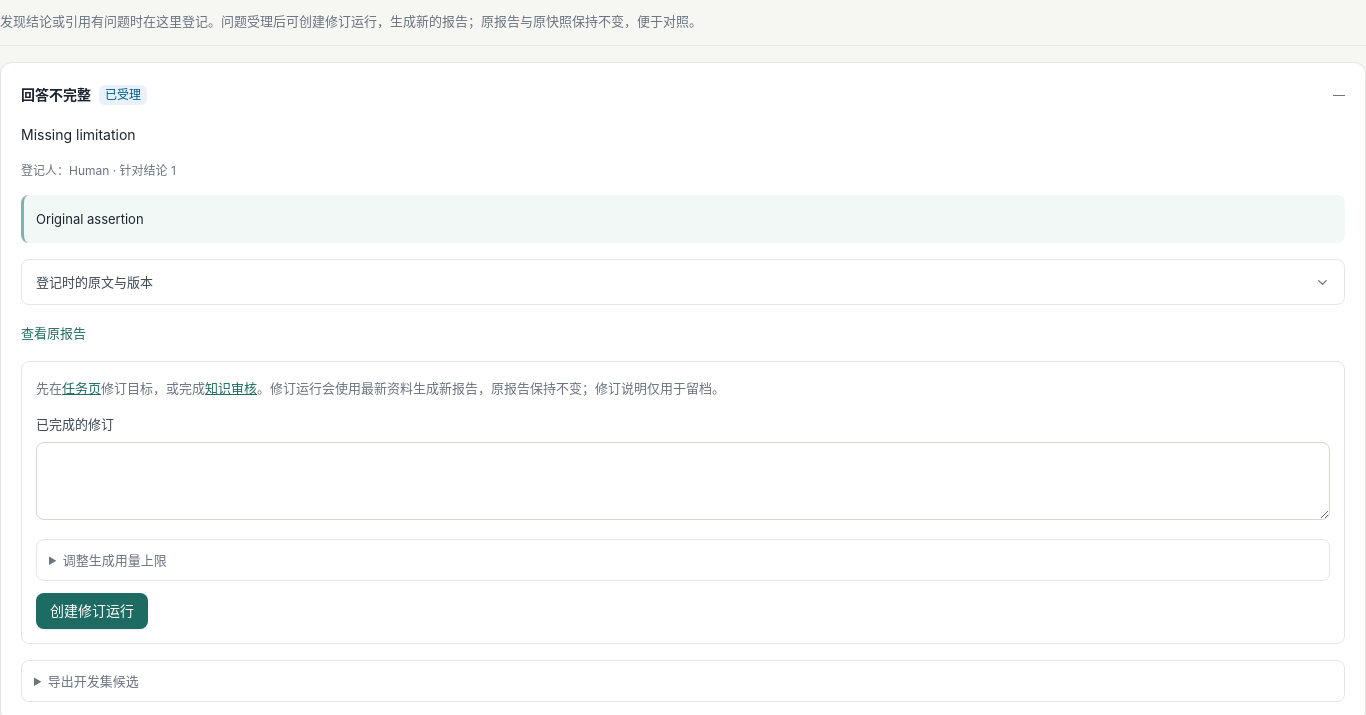
it: starts a single linked rerun and exports only an explicit candidate
The image size is (1366, 715).
Expected: the text "已受理" is shown, [99,85,147,105]
Type "Updated task" into the text box labelled "已完成的修订" at (683, 481), box [36,442,1330,520]
Click the heading "调整生成用量上限" at (115, 560), box [63,552,167,568]
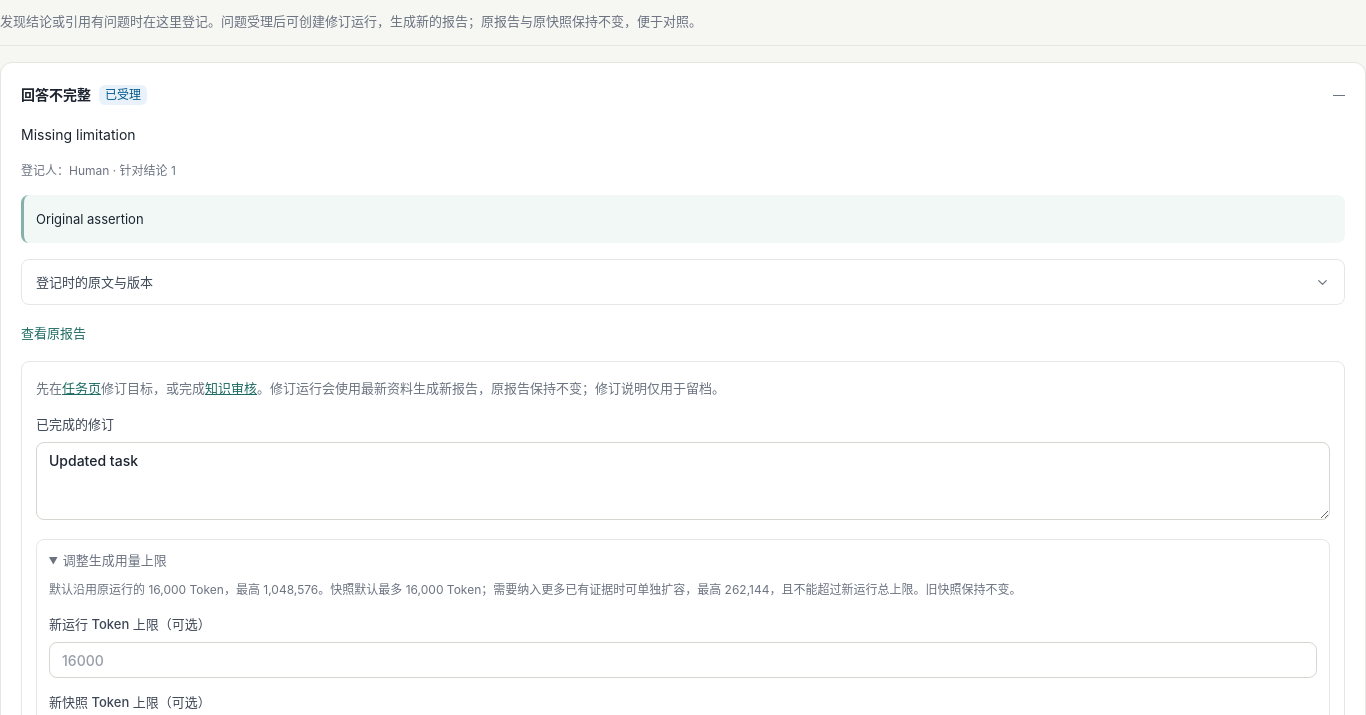
Type "1048576" into the number field labelled "新运行 Token 上限（可选）" at (683, 660), box [49,642,1317,678]
(page scrolled)
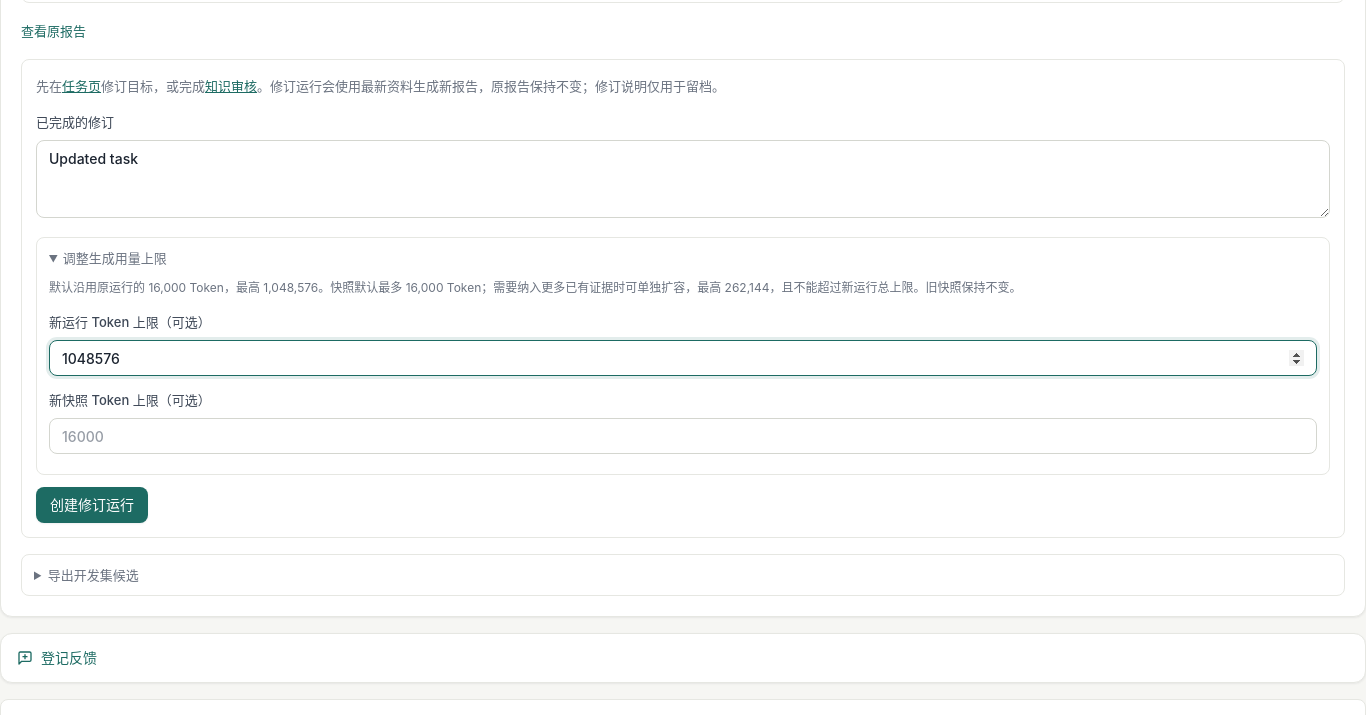
Type "262144" into the number field labelled "新快照 Token 上限（可选）" at (683, 436), box [49,418,1317,454]
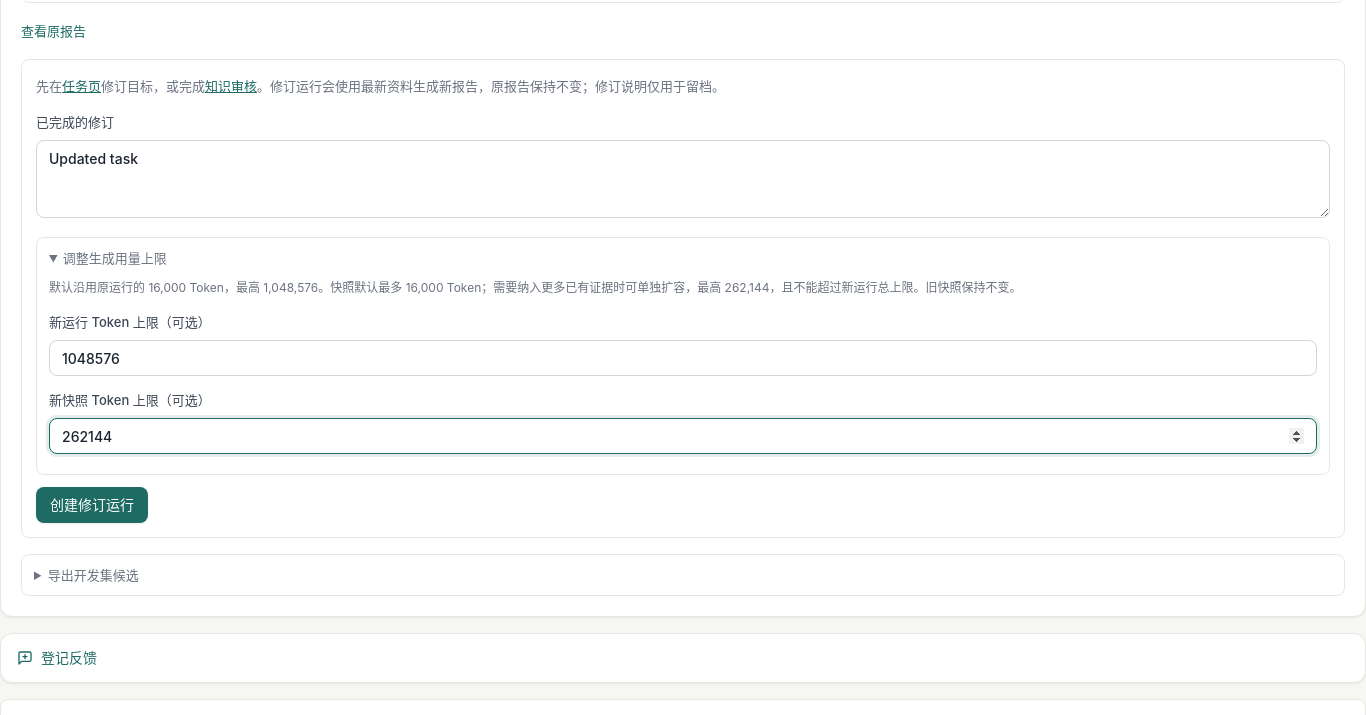
Click the button "创建修订运行" at (92, 505), box [36,487,148,523]
(page scrolled)
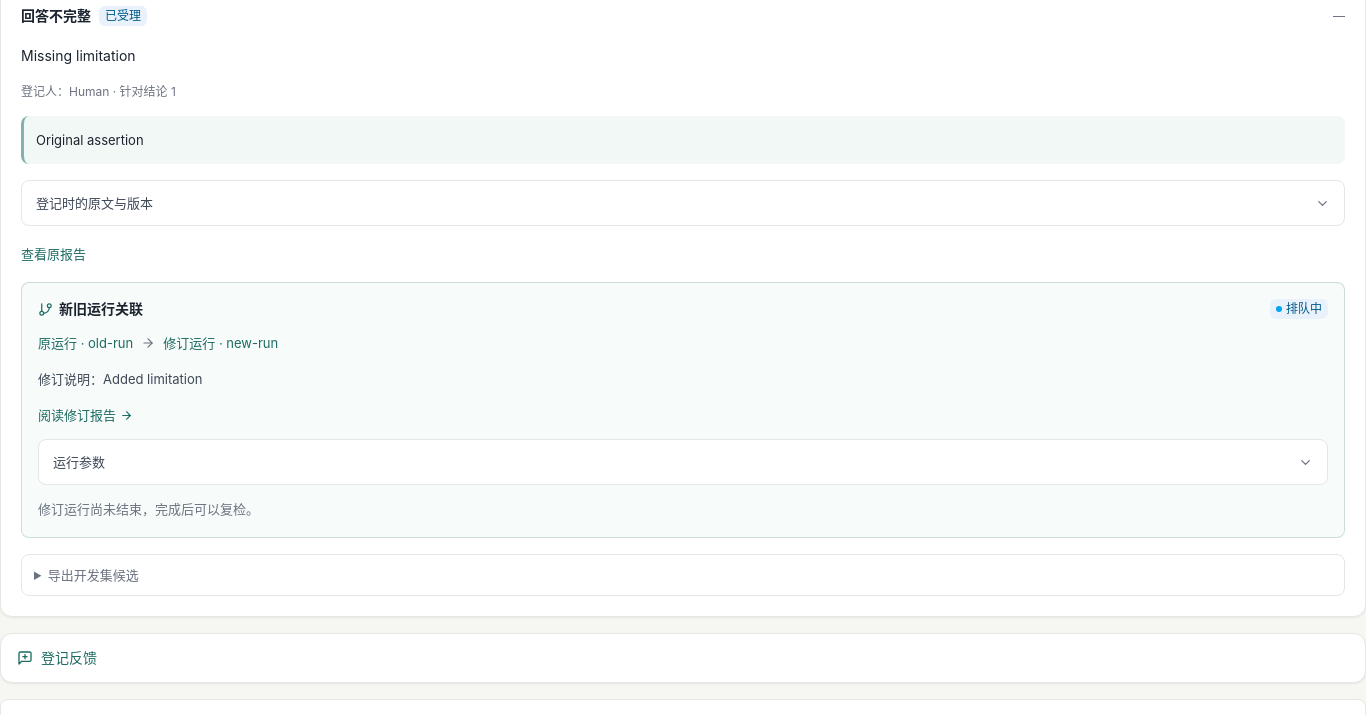
Expected: the heading "新旧运行关联" is shown, [38,299,143,319]
Click the heading "导出开发集候选" at (93, 575), box [48,567,139,583]
(page scrolled)
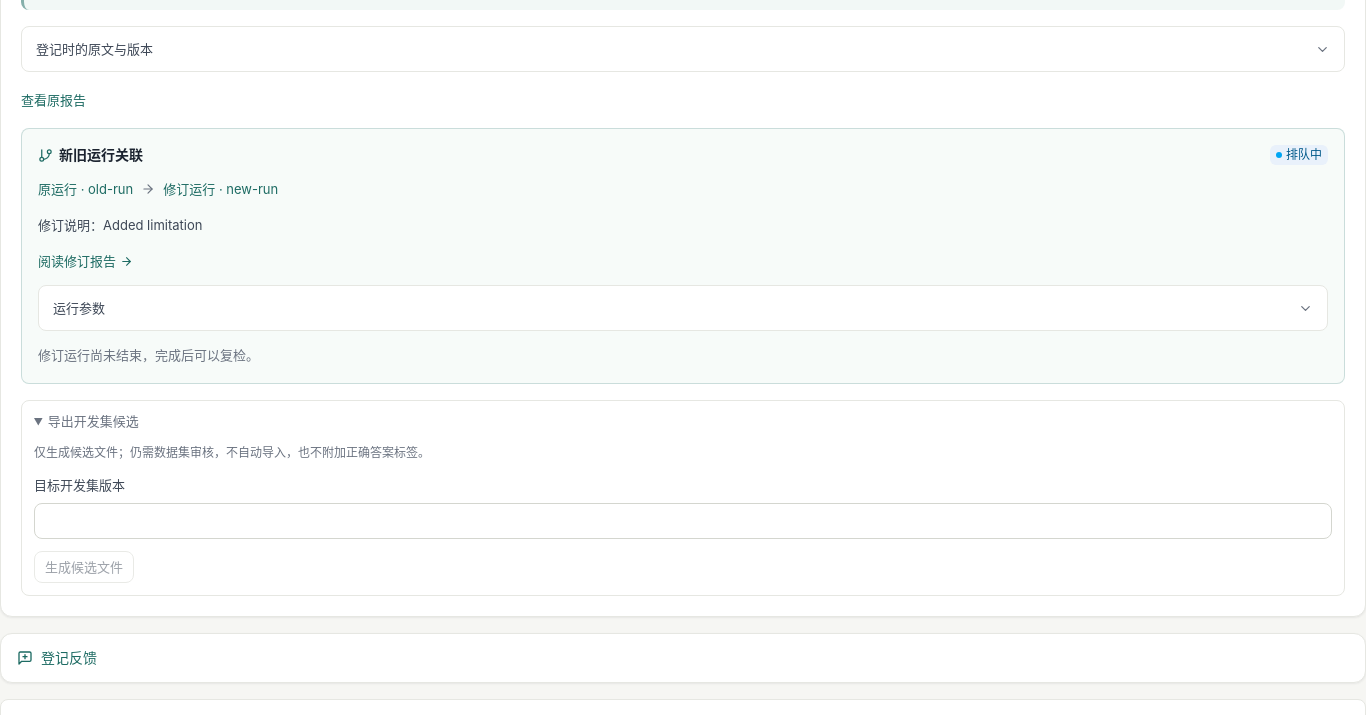
Type "dev-next" into the field labelled "目标开发集版本" at (683, 521), box [34,503,1332,539]
Click the button "生成候选文件" at (84, 567), box [34,551,134,583]
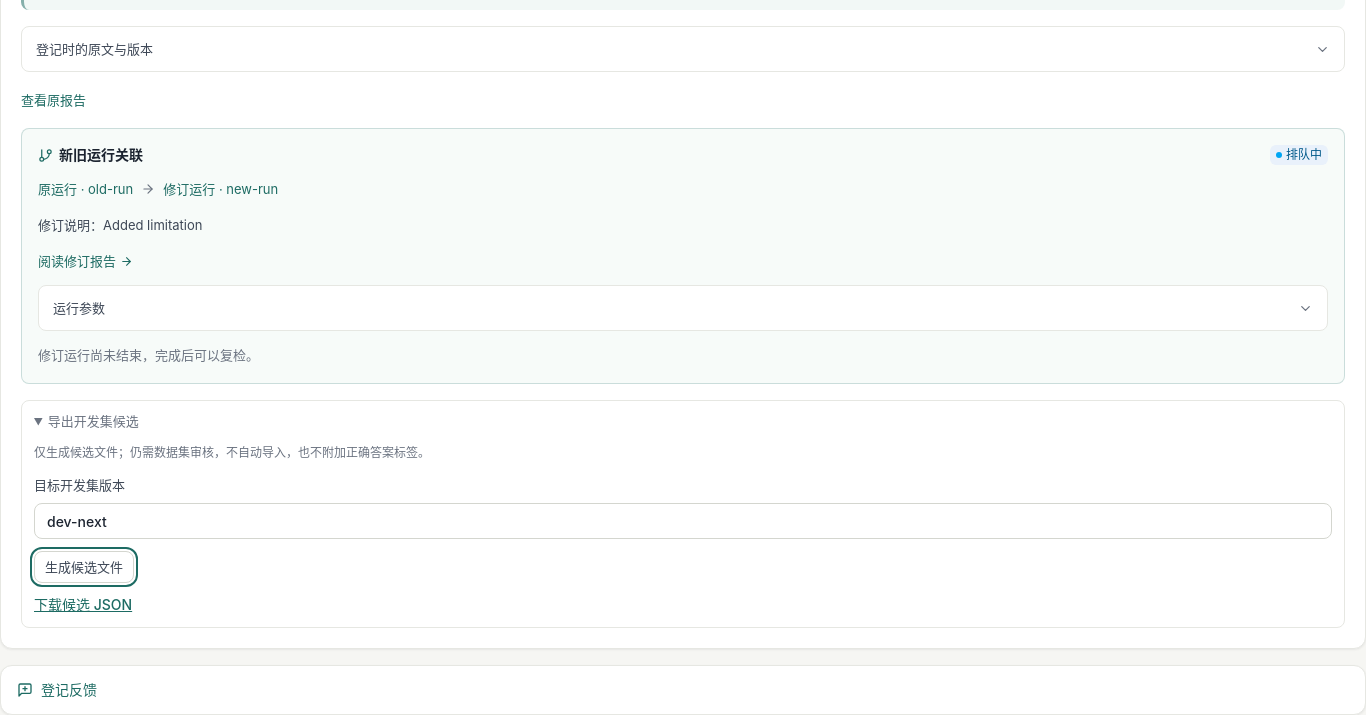
Expected: the link "下载候选 JSON" is shown, [34,596,132,613]
